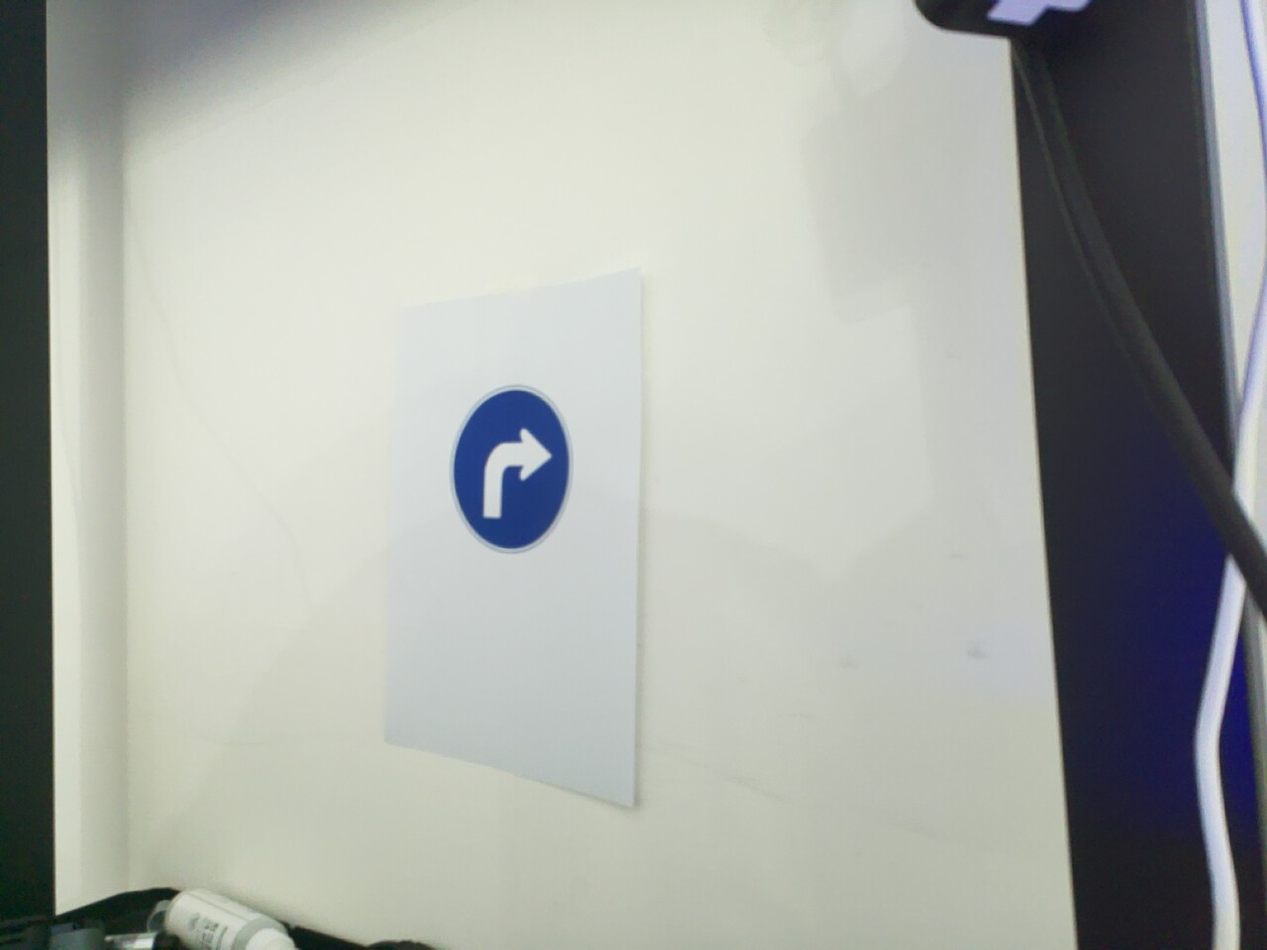right_turn: (447, 383, 575, 556)
